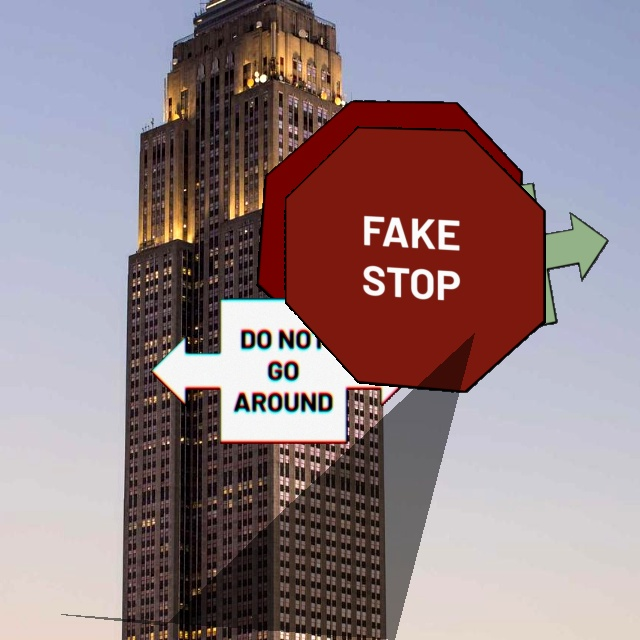DO_NOT_GO_AROUND: (150, 298, 417, 444)
FAKE_STOP: (284, 126, 546, 393), (256, 100, 523, 356)
GO_AROUND: (342, 182, 609, 351)
